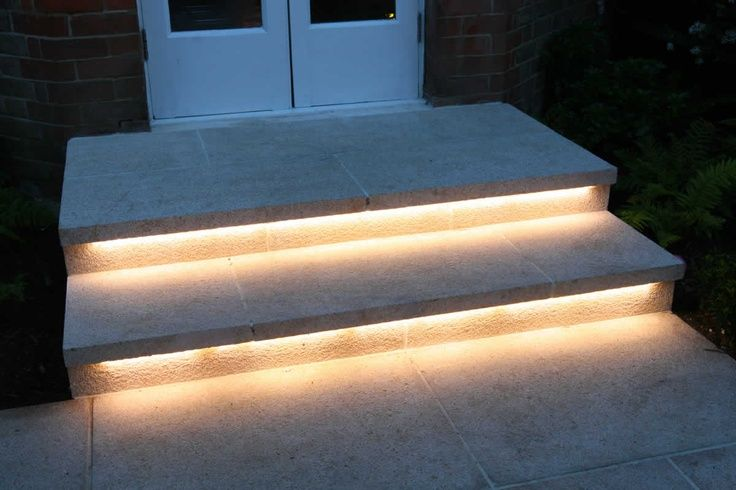upstairs: (88, 138, 584, 409)
